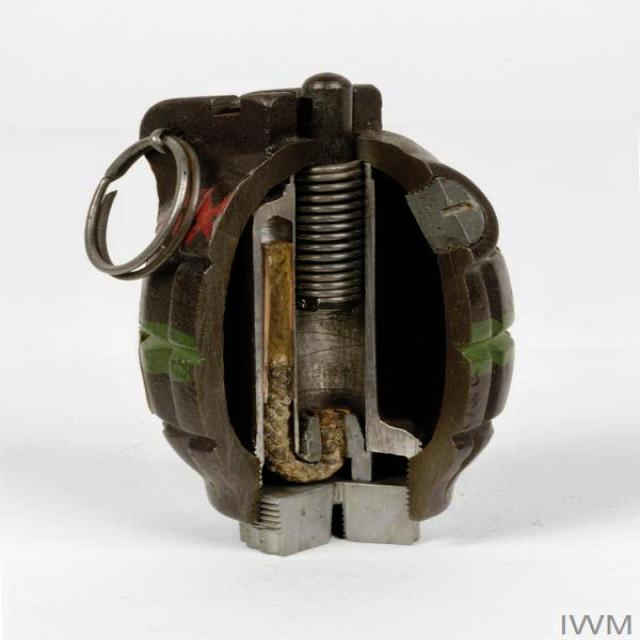grenade: (84, 74, 516, 557)
